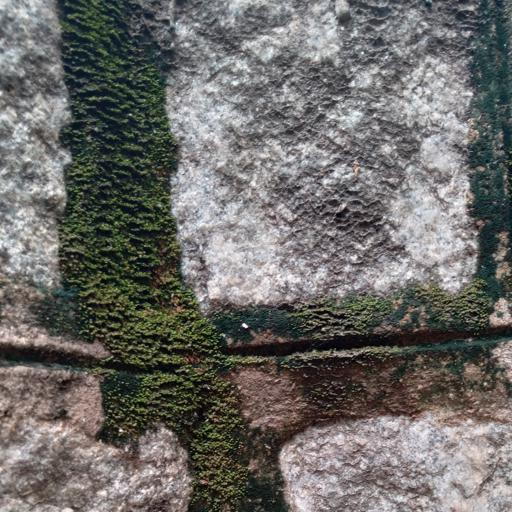algae: (30, 0, 275, 484)
